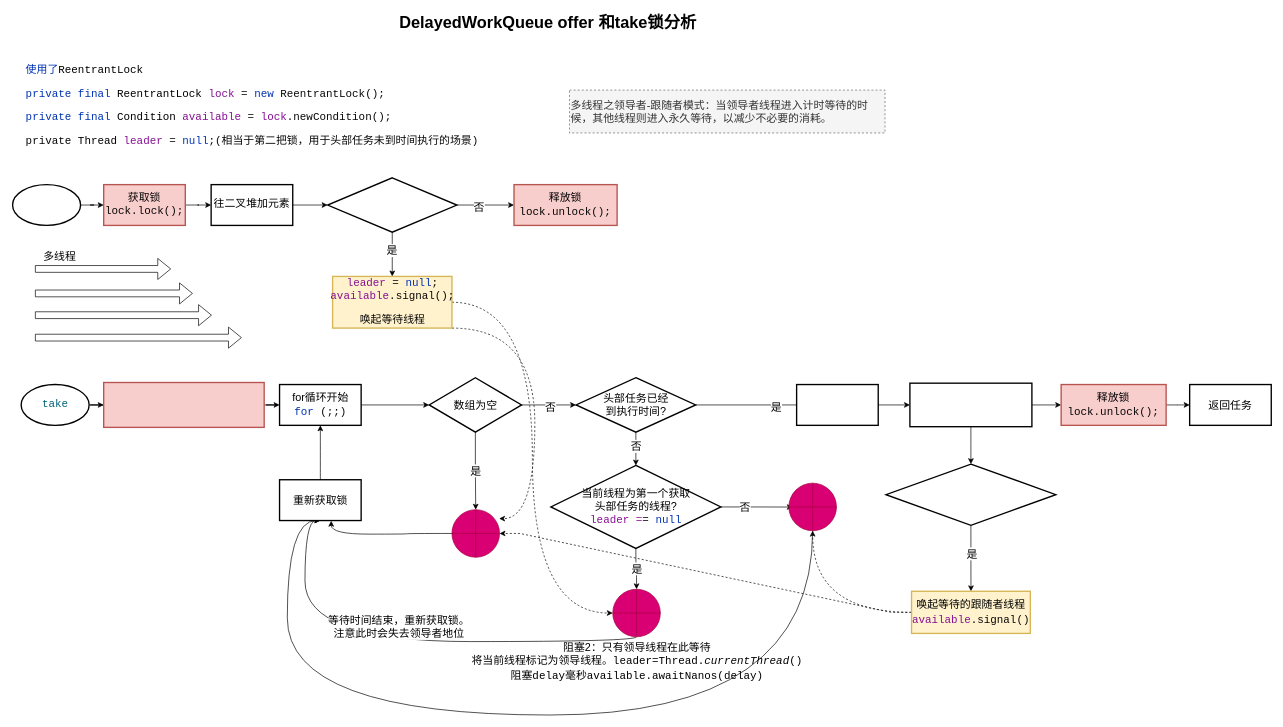
Image size: 1283x727. Some labels were removed from this diagram. The centre of each missing label's shape, as x and y in pixels:
for循环结束: (x=837, y=405)
offer: (x=46, y=205)
判断是否需要唤起等待的跟随者: (x=970, y=404)
新增的元素为头部（queue[0]）: (x=392, y=205)
获取锁 lock .lockInterruptibly();: (x=184, y=404)
队列头部还有任务， 而且此时没有领导者线程 （leader==null）: (x=970, y=494)
阻塞1： available .await() 所有空闲线程在此等待: (x=475, y=533)
阻塞3：只有阻塞2发生时，其他线程在此等待 。 available .await();: (x=812, y=506)
